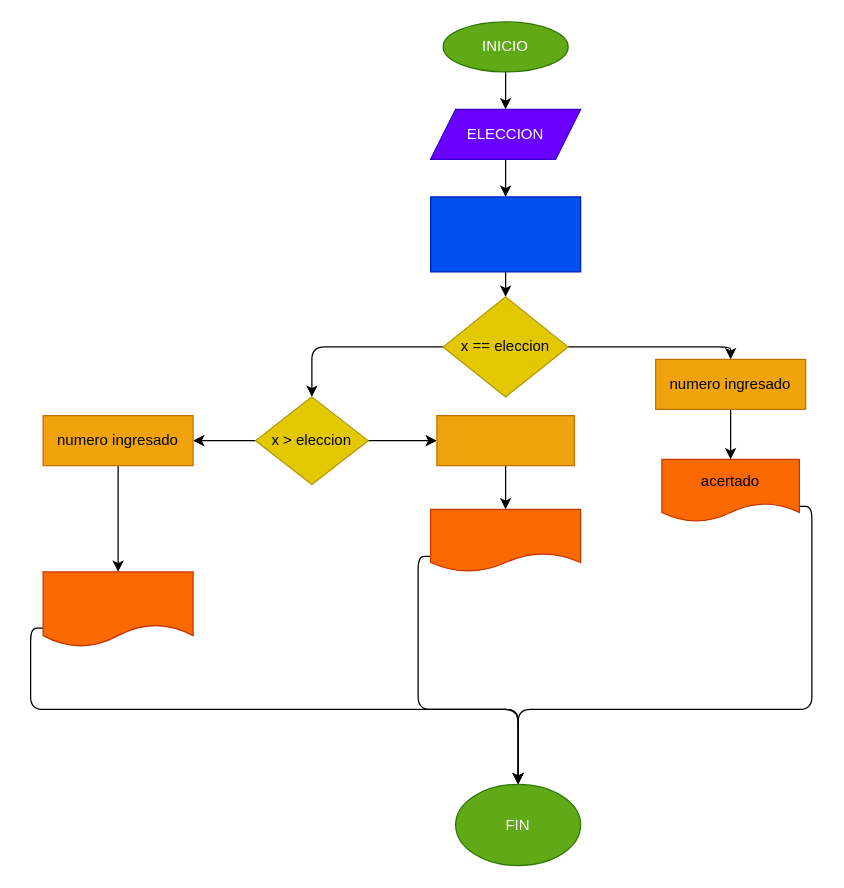
Some shapes in this 844 by 888 pixel diagram are drawn without their labels. The shapes that lost their labels are listed below. From the top down, each one's centre as x and y in pixels, then its label:
At pixel 505 234: "X ==rando(1.10)".
At pixel 505 440: "numeroingresad".
At pixel 505 540: "numero ingresado (es mayor que y)".
At pixel 117 609: "numeroingresado (es menor que y)".
